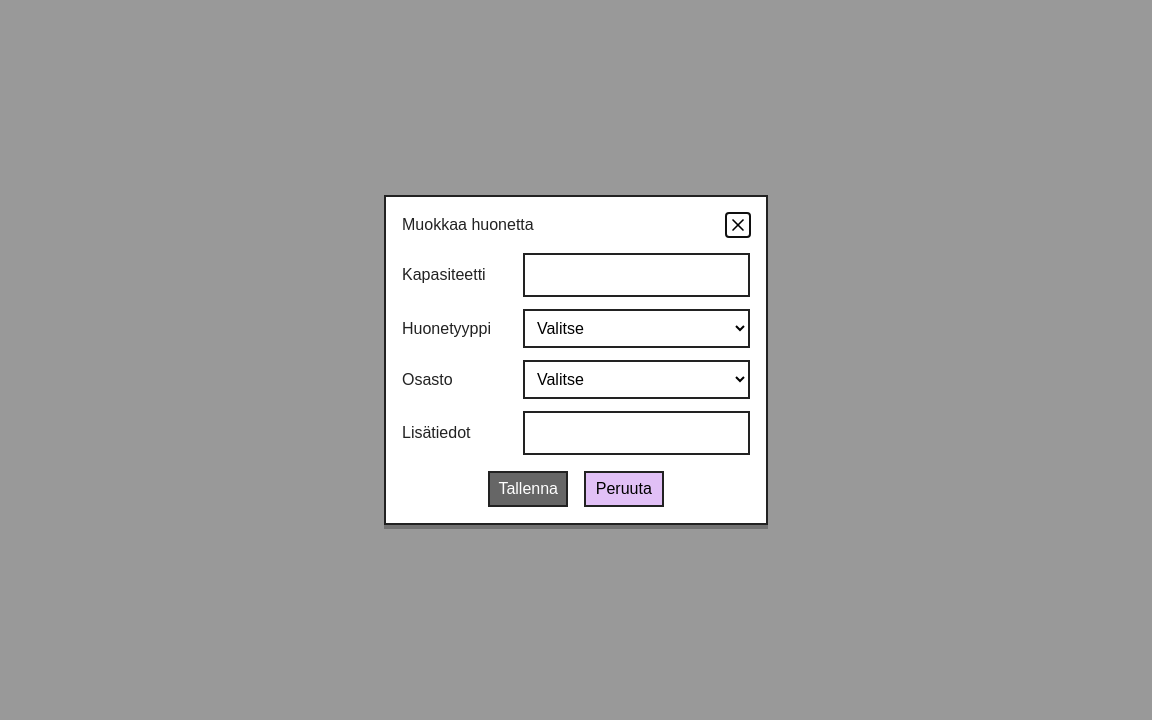
it: RoomModal › shows confirmation when clicking close button
The image size is (1152, 720).
Click the button named "Sulje huoneen tietojen muokkaus". click: (738, 225)
box: 726,213 -> 750,237
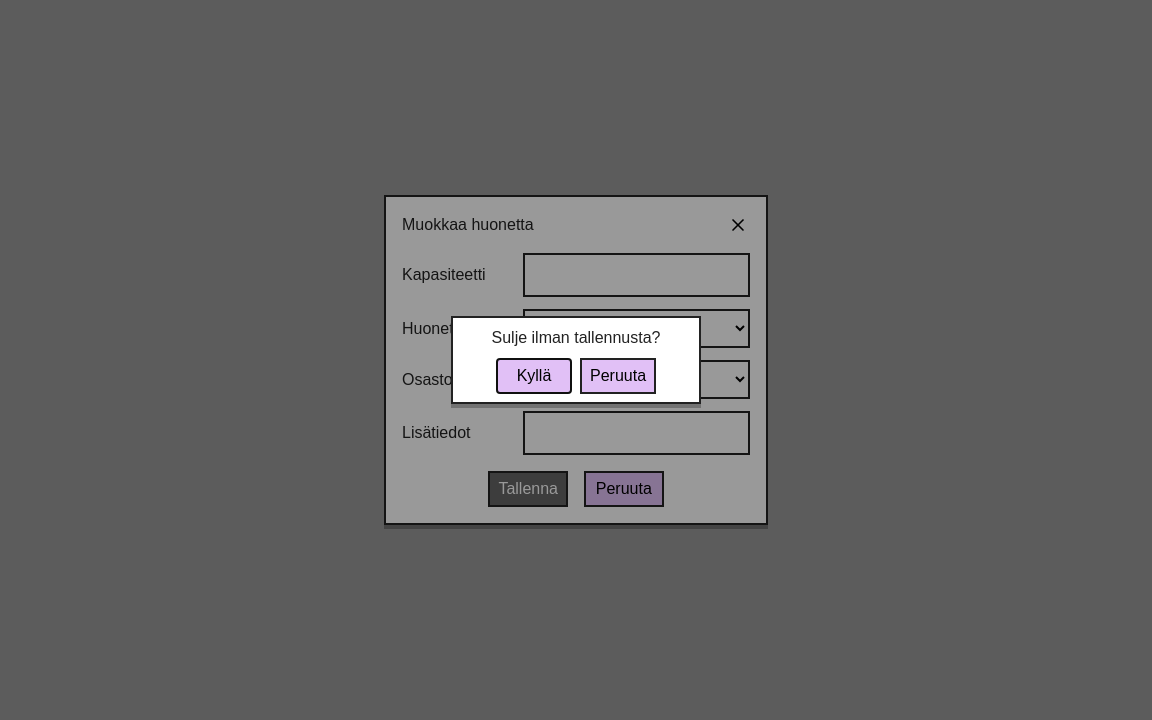
Result: the heading "Sulje ilman tallennusta?" is shown at 492,326 -> 660,350
